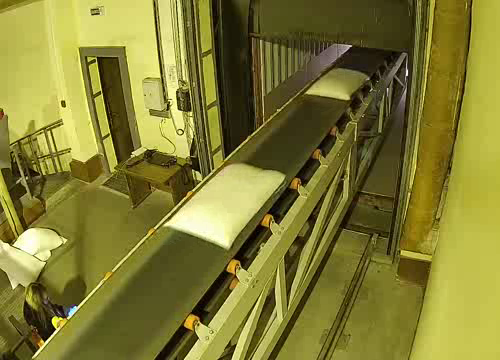bag: (157, 162, 292, 255), (302, 65, 375, 104)
